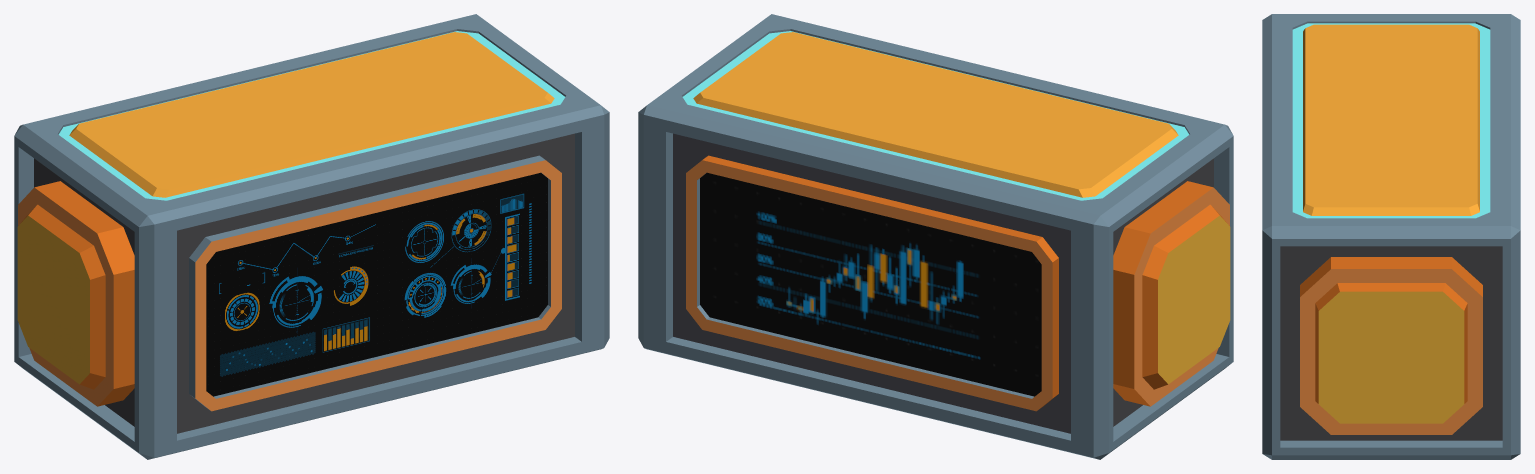
The model's file is Battery_02.glb.
3 views of the same model, side by side, from view 1: azimuth 30°, elevation 25°; view 2: azimuth 150°, elevation 25°; view 3: azimuth 270°, elevation 25° (orthographic). The views are drawn at different scales.
Visible parts, largest first — view 1: Battery_02; view 2: Battery_02; view 3: Battery_02.
Part boxes in pixels (box(x1,y1,x2,y2)): Battery_02: box(14, 14, 609, 459); Battery_02: box(638, 14, 1233, 459); Battery_02: box(1262, 14, 1520, 459).
Size of what is drawn, in the model's own units: 1.17 by 0.5389 by 0.5299.
2 materials, 2 textured.
